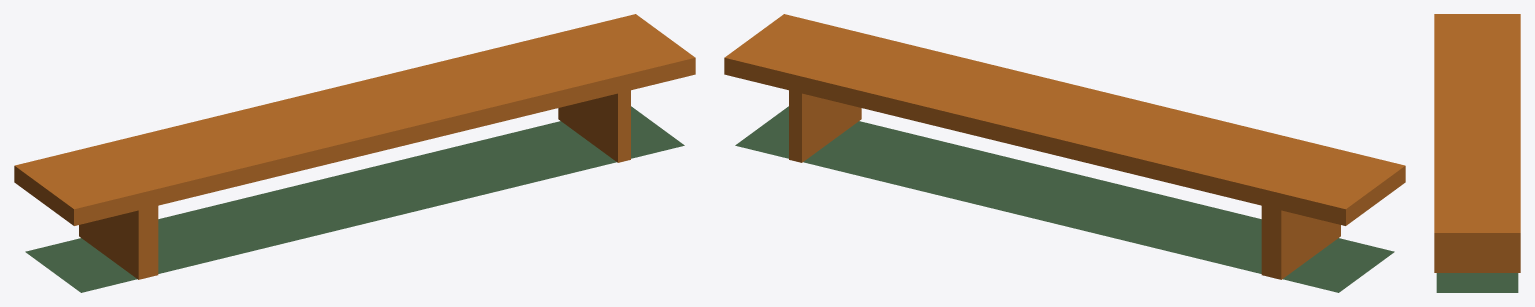
Rendered from monitor-stand.gltf.
3 views of the same model, side by side, from view 1: azimuth 30°, elevation 25°; view 2: azimuth 150°, elevation 25°; view 3: azimuth 270°, elevation 25° (orthographic). The views are drawn at different scales.
Parts seen in each view (by area): view 1: monitor-stand, occupied; view 2: monitor-stand, occupied; view 3: monitor-stand, occupied.
Boxes of the visible parts, x1,y1,x2,y2 form: monitor-stand: [14, 14, 695, 279]; occupied: [25, 106, 684, 292]; monitor-stand: [724, 14, 1405, 279]; occupied: [735, 106, 1394, 292]; monitor-stand: [1434, 14, 1520, 272]; occupied: [1436, 273, 1518, 292].
Size of the model in its own units: 0.9643 by 0.1291 by 0.1605.
